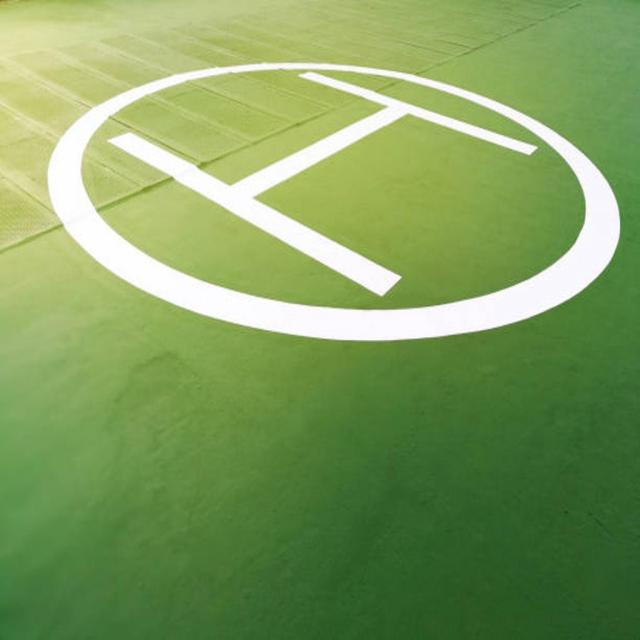helipad: (43, 60, 621, 342)
